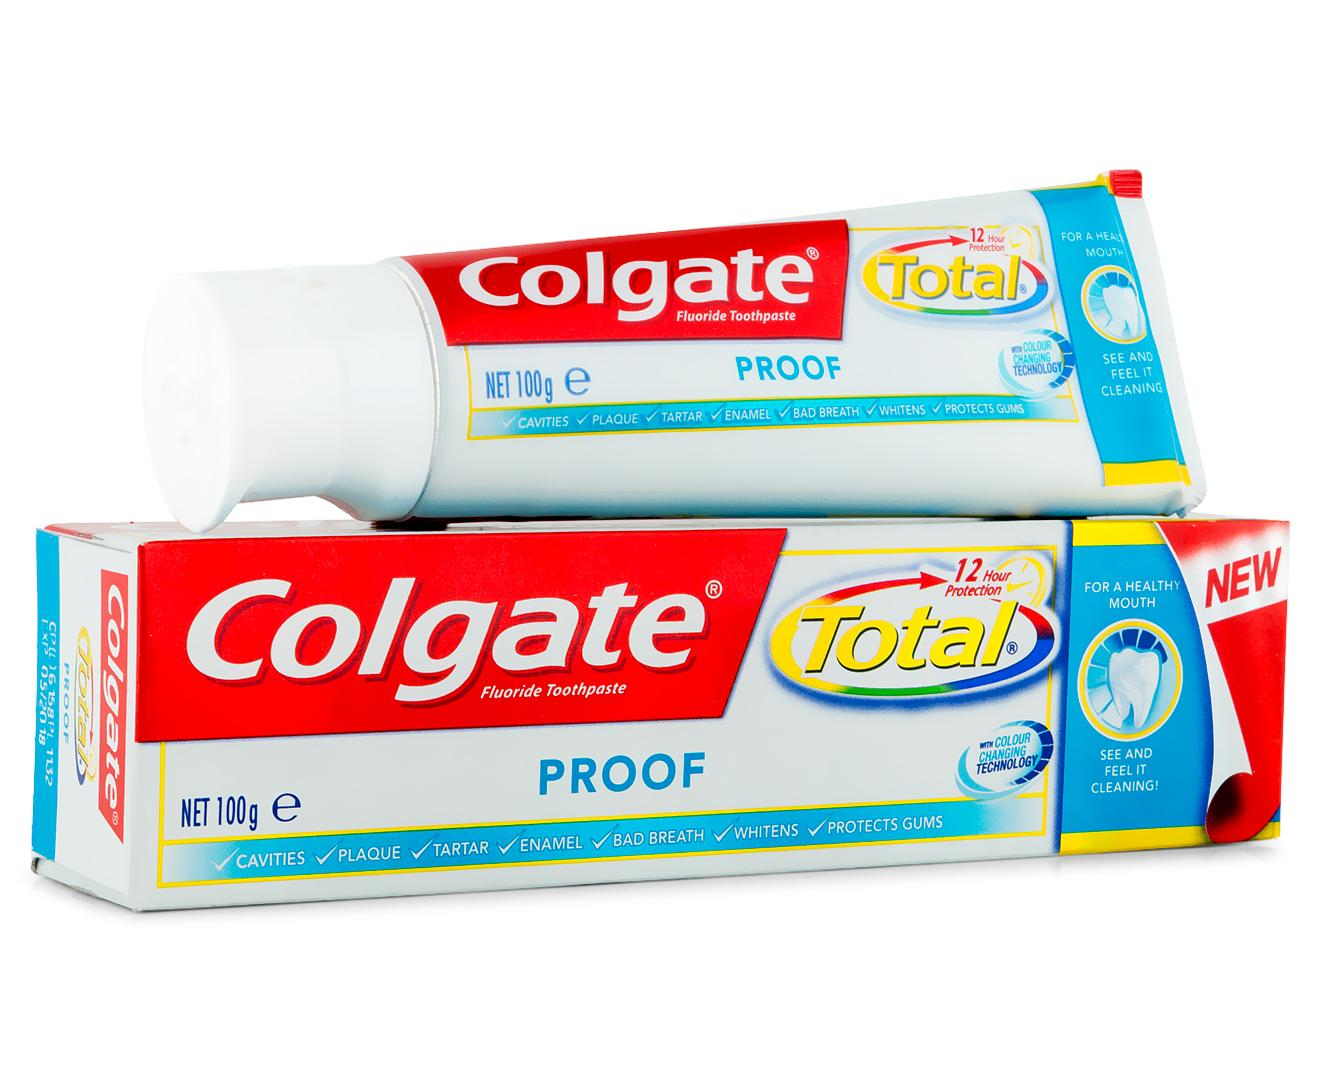toothpaste: (98, 194, 1248, 539)
